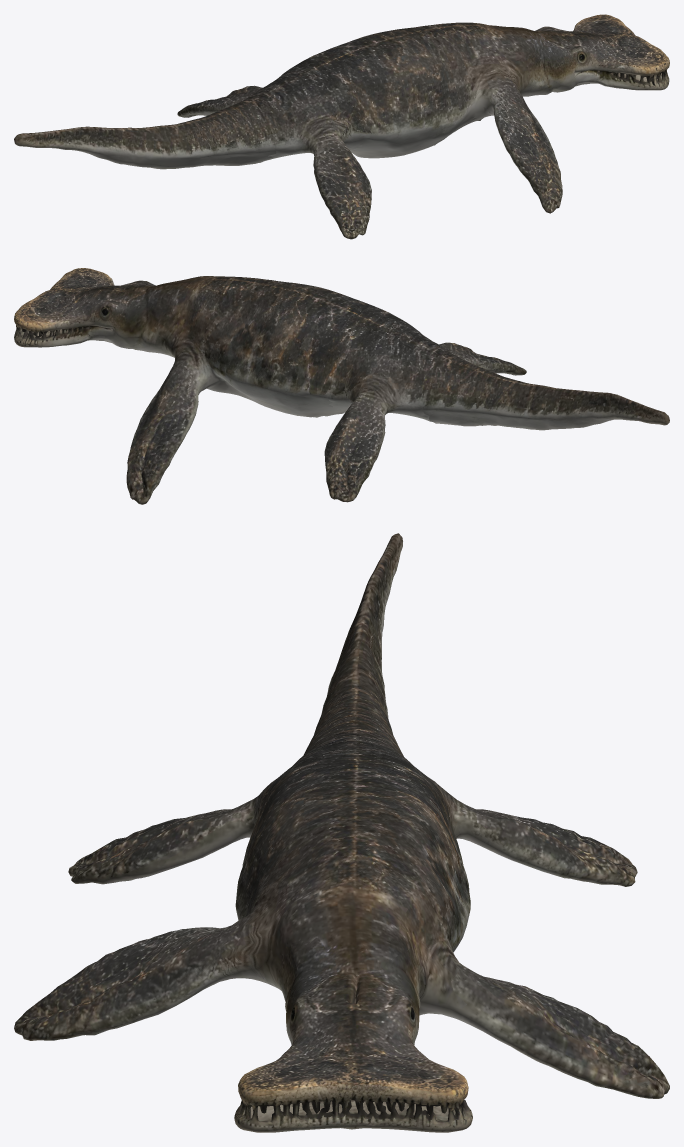
File: atopodentatus.preview.glb
3 renders of one model, top to bottom at view 1: azimuth 30°, elevation 25°; view 2: azimuth 150°, elevation 25°; view 3: azimuth 270°, elevation 25°, orthographic. The views are drawn at different scales.
Visible parts, largest first — view 1: tripo_node_c8b7e07d-3dfe-4b69-a4f9-2c2be73c77bb.001; view 2: tripo_node_c8b7e07d-3dfe-4b69-a4f9-2c2be73c77bb.001; view 3: tripo_node_c8b7e07d-3dfe-4b69-a4f9-2c2be73c77bb.001.
Boxes of the visible parts, <box> form: tripo_node_c8b7e07d-3dfe-4b69-a4f9-2c2be73c77bb.001: <box>14,14,669,239</box>; tripo_node_c8b7e07d-3dfe-4b69-a4f9-2c2be73c77bb.001: <box>14,268,669,504</box>; tripo_node_c8b7e07d-3dfe-4b69-a4f9-2c2be73c77bb.001: <box>14,533,669,1132</box>.
Bounding box in the file's own units: 1 × 0.232 × 0.5572.
Materials: 1 (1 with a texture image).
